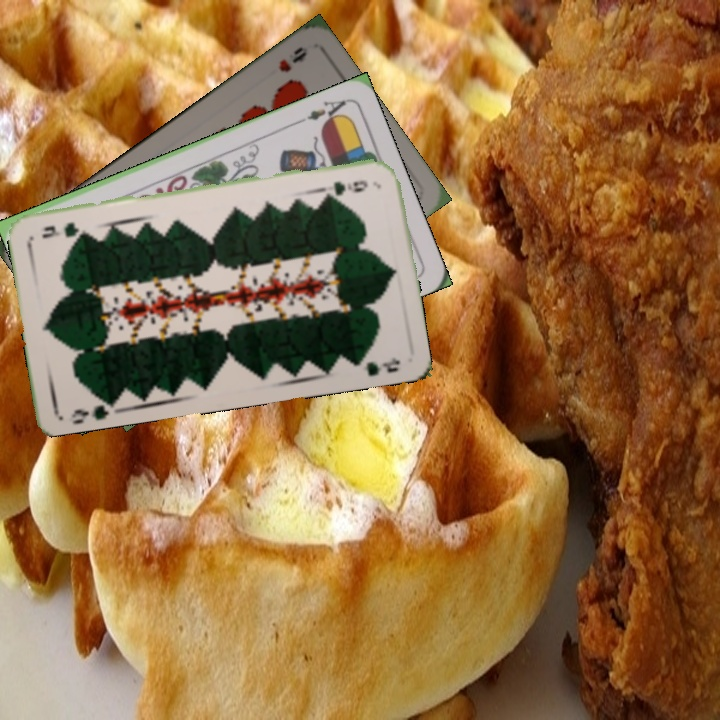EA: (303, 95, 350, 126)
G9: (68, 393, 118, 425), (329, 176, 371, 197)
H9: (274, 42, 310, 75)
